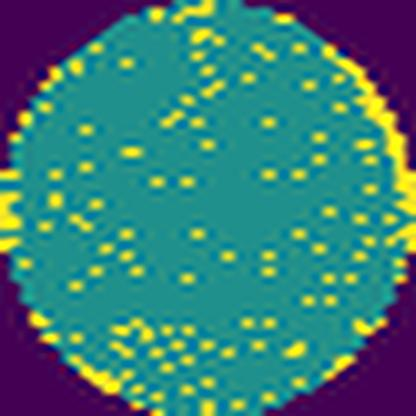Edge-Loc: (330, 51, 415, 218), (385, 219, 415, 261)
